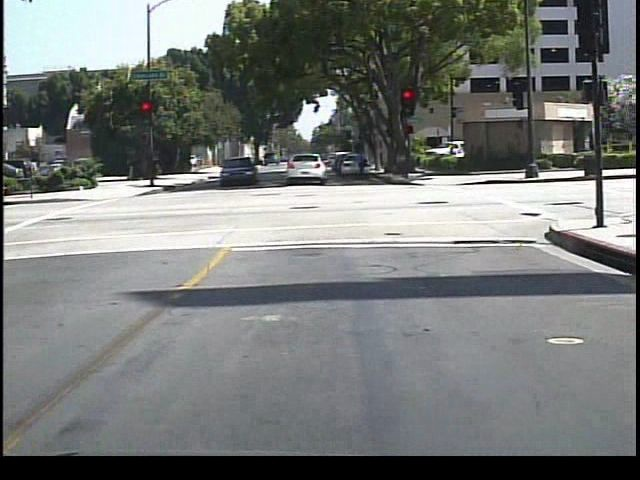person: (351, 143, 372, 185)
